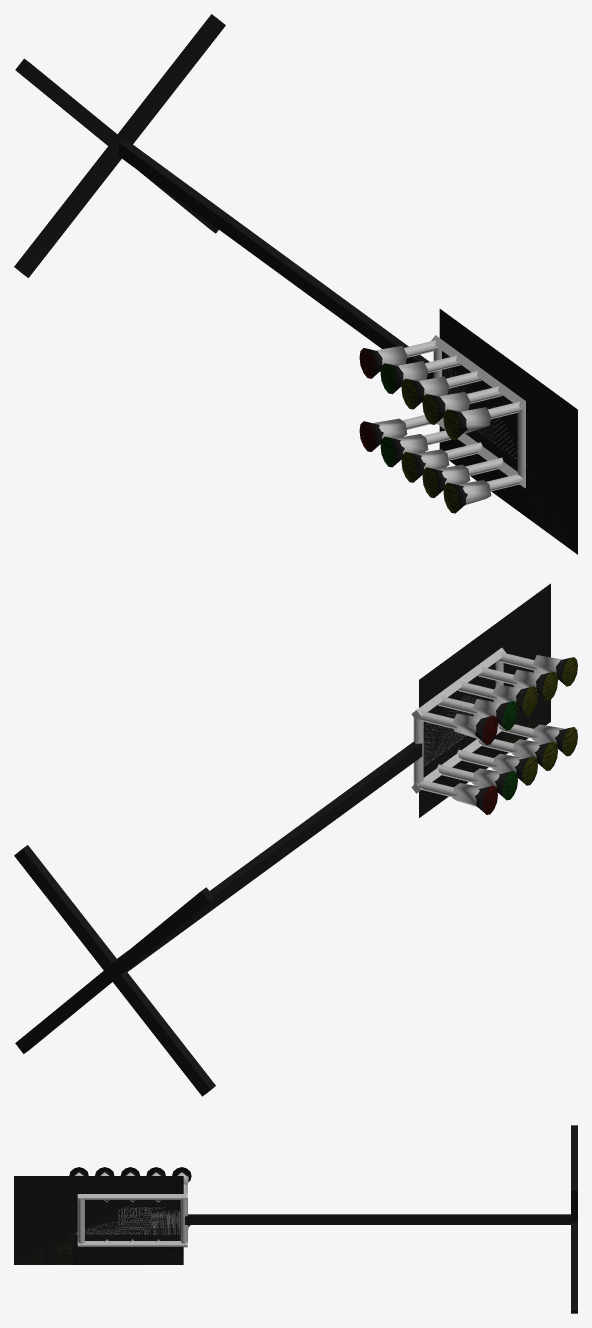
File: christmastree.obj
3 views of the same model, one above another, from view 1: azimuth 30°, elevation 25°; view 2: azimuth 150°, elevation 25°; view 3: azimuth 270°, elevation 25° (orthographic). The views are drawn at different scales.
Visible parts, largest first — view 1: Material__90, 1_-_Default, default, 2_-_Default, Material__35, 7_-_Default, Material__46, Material__79; view 2: Material__90, 1_-_Default, default, 2_-_Default, Material__35, 7_-_Default, Material__79, Material__46; view 3: Material__90, 2_-_Default, 7_-_Default, 1_-_Default, default, Material__35.
Boxes of the visible parts, <box> form: Material__90: <box>439,309,577,554</box>; 1_-_Default: <box>373,335,525,505</box>; default: <box>14,14,225,277</box>; 2_-_Default: <box>118,140,433,379</box>; Material__35: <box>401,378,467,513</box>; 7_-_Default: <box>440,312,574,551</box>; Material__46: <box>380,363,404,467</box>; Material__79: <box>359,348,383,451</box>; Material__90: <box>419,583,550,817</box>; 1_-_Default: <box>411,647,563,807</box>; default: <box>14,845,215,1096</box>; 2_-_Default: <box>117,741,422,971</box>; Material__35: <box>515,657,577,785</box>; 7_-_Default: <box>419,680,549,807</box>; Material__79: <box>475,715,497,814</box>; Material__46: <box>495,701,517,800</box>; Material__90: <box>14,1176,183,1264</box>; 2_-_Default: <box>185,1214,570,1224</box>; 7_-_Default: <box>15,1176,183,1264</box>; 1_-_Default: <box>74,1172,188,1247</box>; default: <box>571,1125,577,1313</box>; Material__35: <box>69,1167,139,1175</box>.
Bounding box in the file's own units: 1.29 × 1.3 × 4.99.
6 materials, 4 textured.
